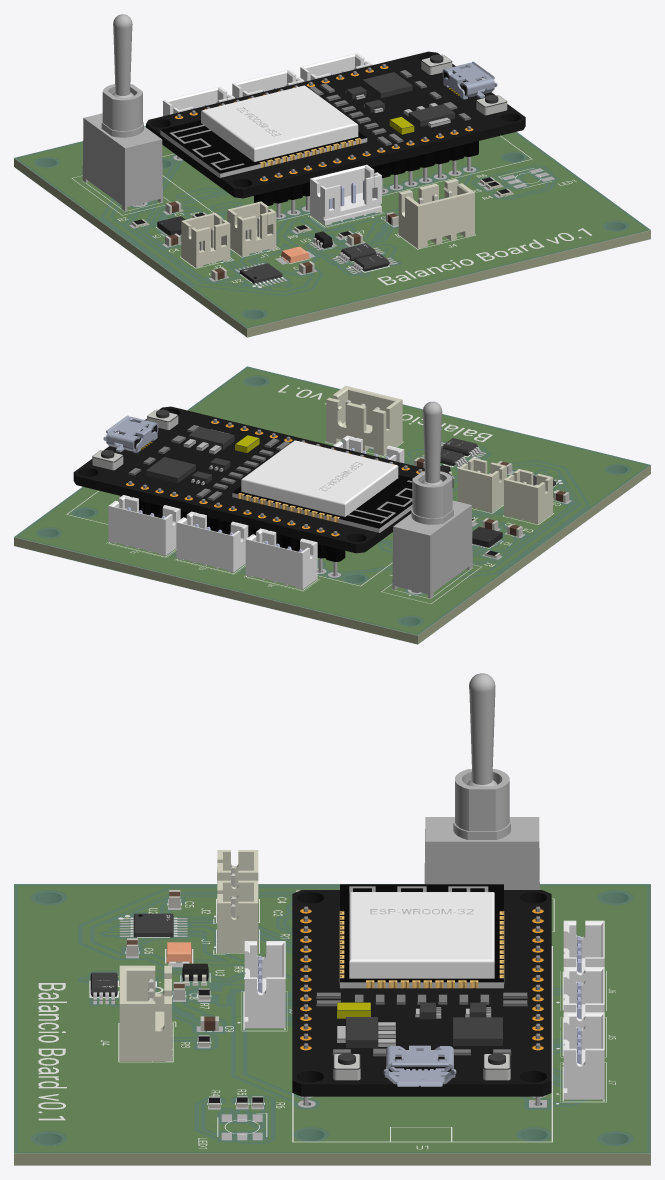
Rendered from balancio-board.glb.
The picture shows the model from 3 angles, top to bottom: view 1: azimuth 30°, elevation 25°; view 2: azimuth 150°, elevation 25°; view 3: azimuth 270°, elevation 25°; orthographic projection. The views are drawn at different scales.
Parts seen in each view (by area): view 1: =>[0:1:1:33], =>[0:1:1:29], NAUO3, =>[0:1:1:35], NAUO2, =>[0:1:1:16], =>[0:1:1:14] (×4), =>[0:1:1:20] (×2), =>[0:1:1:24], =>[0:1:1:32], =>[0:1:1:30], NAUO1 (+3 smaller); view 2: =>[0:1:1:33], =>[0:1:1:29], NAUO3, NAUO2, =>[0:1:1:14] (×4), =>[0:1:1:35], =>[0:1:1:16], =>[0:1:1:20] (×2), =>[0:1:1:24], =>[0:1:1:32], NAUO1, =>[0:1:1:34] (+3 smaller); view 3: =>[0:1:1:33], =>[0:1:1:29], NAUO3, =>[0:1:1:35], NAUO2, =>[0:1:1:16], =>[0:1:1:14] (×4), =>[0:1:1:32], =>[0:1:1:24], =>[0:1:1:20] (×2), NAUO1, =>[0:1:1:30] (+2 smaller).
Part boxes in pixels (x1,y1,x2,y2): =>[0:1:1:33]: (14, 125, 650, 328); =>[0:1:1:29]: (19, 133, 646, 326); NAUO3: (146, 51, 525, 217); =>[0:1:1:35]: (14, 126, 650, 337); NAUO2: (160, 85, 367, 178); =>[0:1:1:16]: (82, 14, 162, 211); =>[0:1:1:14] (×4): (163, 53, 381, 225); =>[0:1:1:20] (×2): (181, 201, 276, 267); =>[0:1:1:24]: (398, 178, 474, 248); =>[0:1:1:32]: (71, 135, 591, 287); =>[0:1:1:30]: (129, 155, 554, 286); NAUO1: (442, 61, 497, 99); =>[0:1:1:33]: (14, 366, 650, 635); =>[0:1:1:29]: (18, 368, 645, 633); NAUO3: (73, 406, 453, 576); NAUO2: (232, 440, 412, 532); =>[0:1:1:14] (×4): (108, 435, 404, 589); =>[0:1:1:35]: (14, 367, 650, 644); =>[0:1:1:16]: (392, 401, 472, 598); =>[0:1:1:20] (×2): (458, 457, 552, 524); =>[0:1:1:24]: (326, 385, 402, 455); =>[0:1:1:32]: (66, 385, 563, 603); NAUO1: (103, 415, 158, 453); =>[0:1:1:34]: (14, 474, 650, 644); =>[0:1:1:33]: (14, 884, 650, 1153); =>[0:1:1:29]: (18, 886, 646, 1151); NAUO3: (292, 890, 551, 1105); =>[0:1:1:35]: (14, 885, 650, 1165); NAUO2: (339, 884, 504, 988); =>[0:1:1:16]: (424, 673, 539, 889); =>[0:1:1:14] (×4): (244, 920, 604, 1099); =>[0:1:1:32]: (38, 897, 615, 1149); =>[0:1:1:24]: (119, 965, 171, 1061); =>[0:1:1:20] (×2): (217, 850, 258, 952); NAUO1: (383, 1045, 456, 1086); =>[0:1:1:30]: (93, 899, 546, 1140).
Bounding box in the file's own units: 0.07 × 0.0349 × 0.07.
